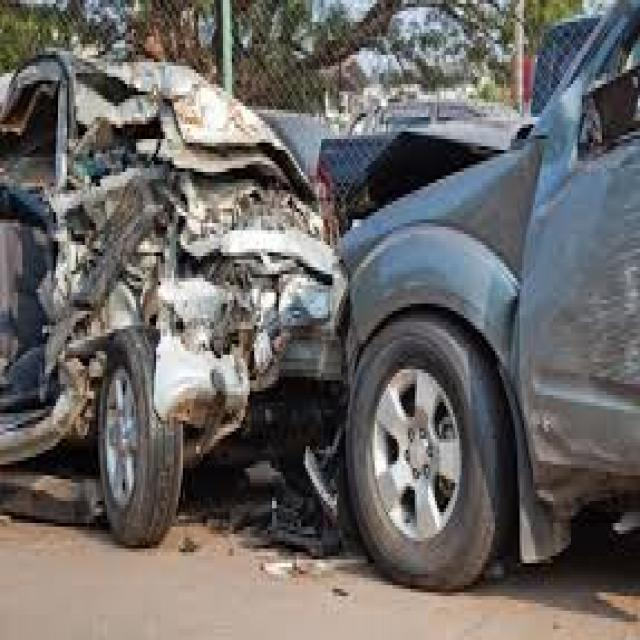accident: (0, 10, 636, 532)
